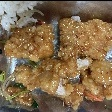guobaorou: (4, 20, 112, 108)
